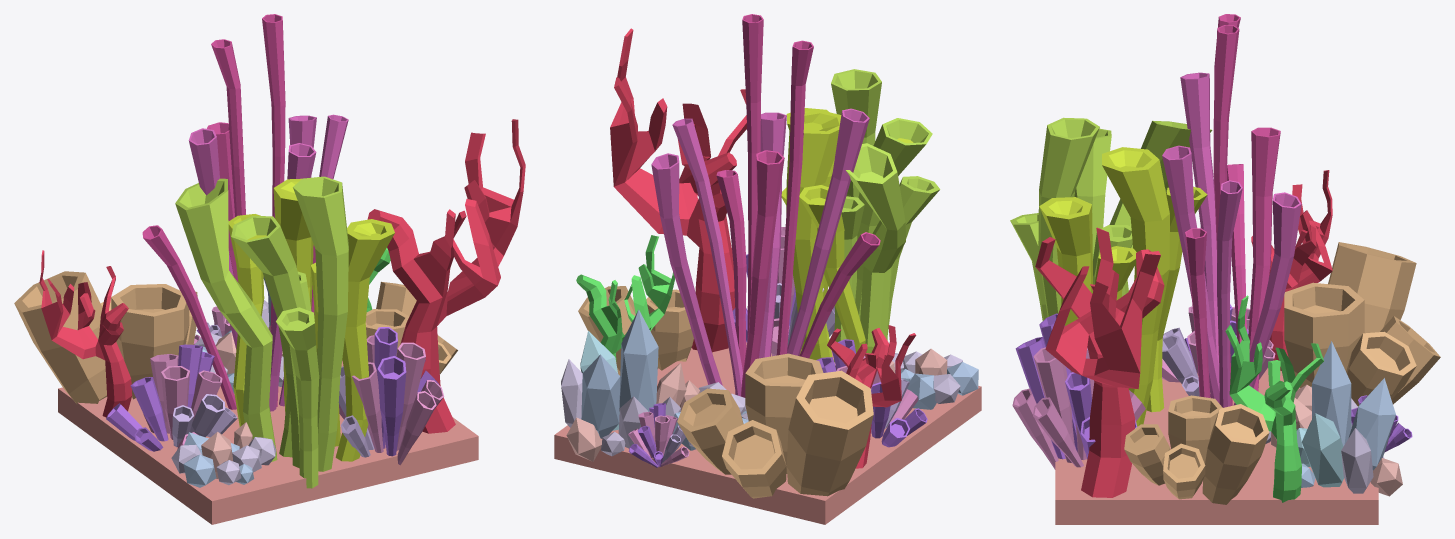
File: reef4.fbx
The picture shows the model from 3 angles, left to right: view 1: azimuth 30°, elevation 25°; view 2: azimuth 150°, elevation 25°; view 3: azimuth 270°, elevation 25°; orthographic projection. The views are drawn at different scales.
Parts seen in each view (by area): view 1: reef_block_1; view 2: reef_block_1; view 3: reef_block_1.
Boxes of the visible parts, x1=… form: reef_block_1: x1=14, y1=14, x2=525, y2=524; reef_block_1: x1=554, y1=14, x2=981, y2=524; reef_block_1: x1=1010, y1=14, x2=1440, y2=524.
Bounding box in the file's own units: 16.15 × 16.56 × 14.96.
